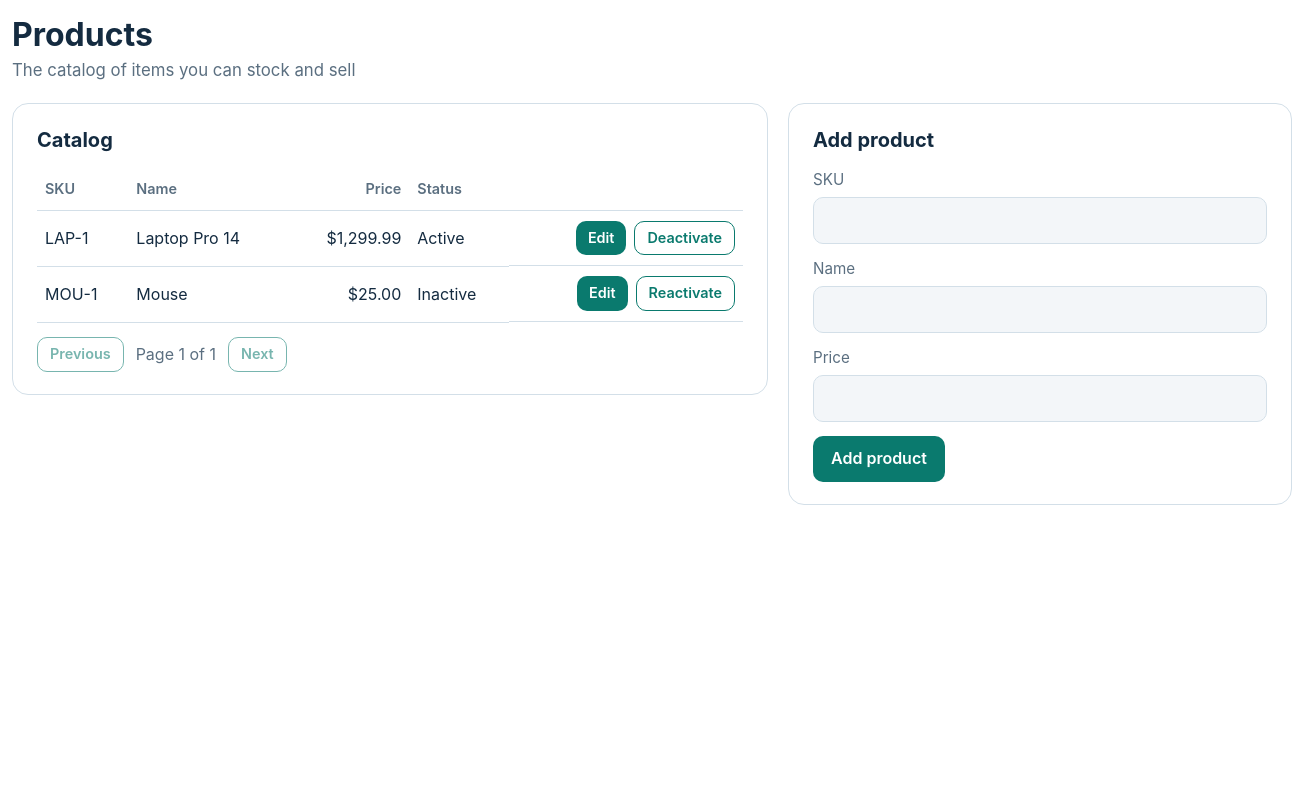
Scenario: ProductsPage create › shows a duplicate-SKU conflict as a message and keeps what was typed
Expected: the text "MOU-1" is shown, left=37, top=266, right=128, bottom=322
Type "LAP-1" into the field labelled "SKU".
click(1040, 220); type("LAP-1")  # box left=813, top=197, right=1267, bottom=244
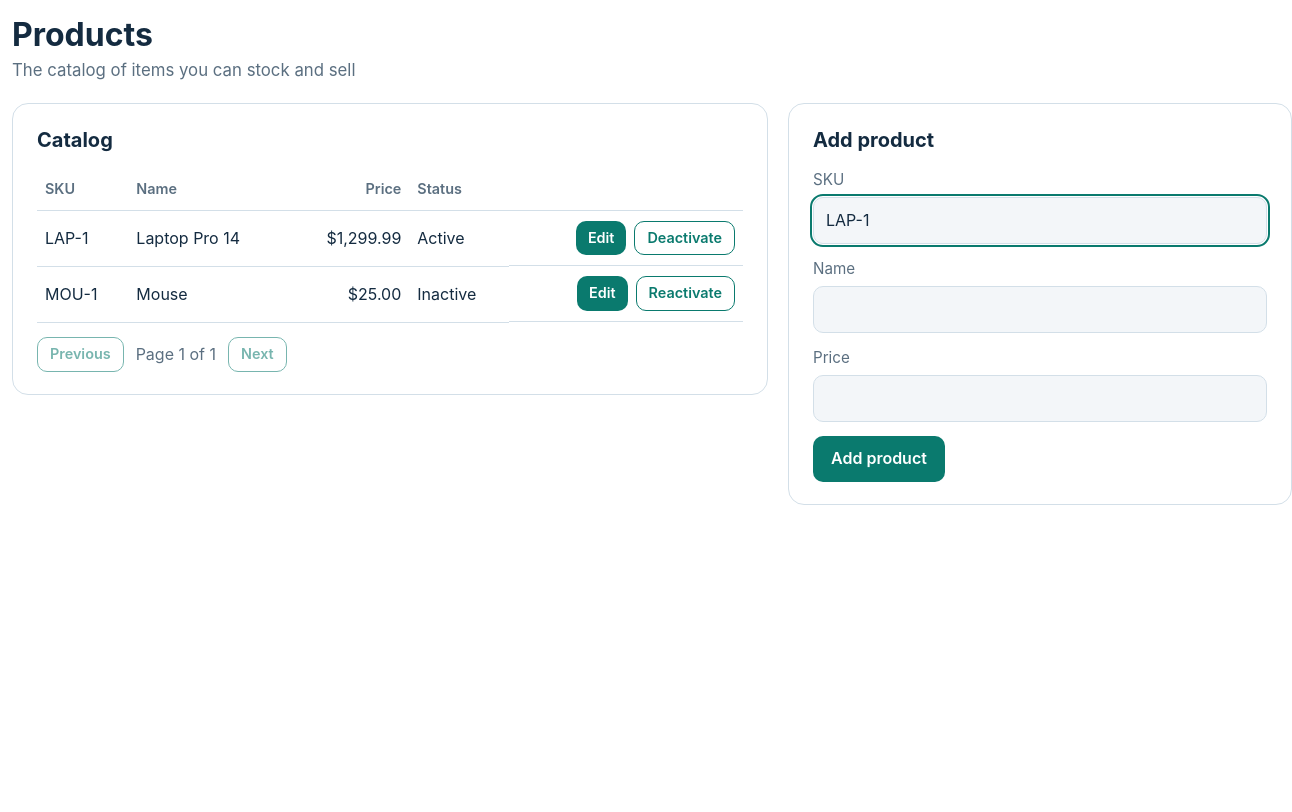
Type "Dup" into the field labelled "Name".
click(1040, 310); type("Dup")  # box left=813, top=286, right=1267, bottom=333
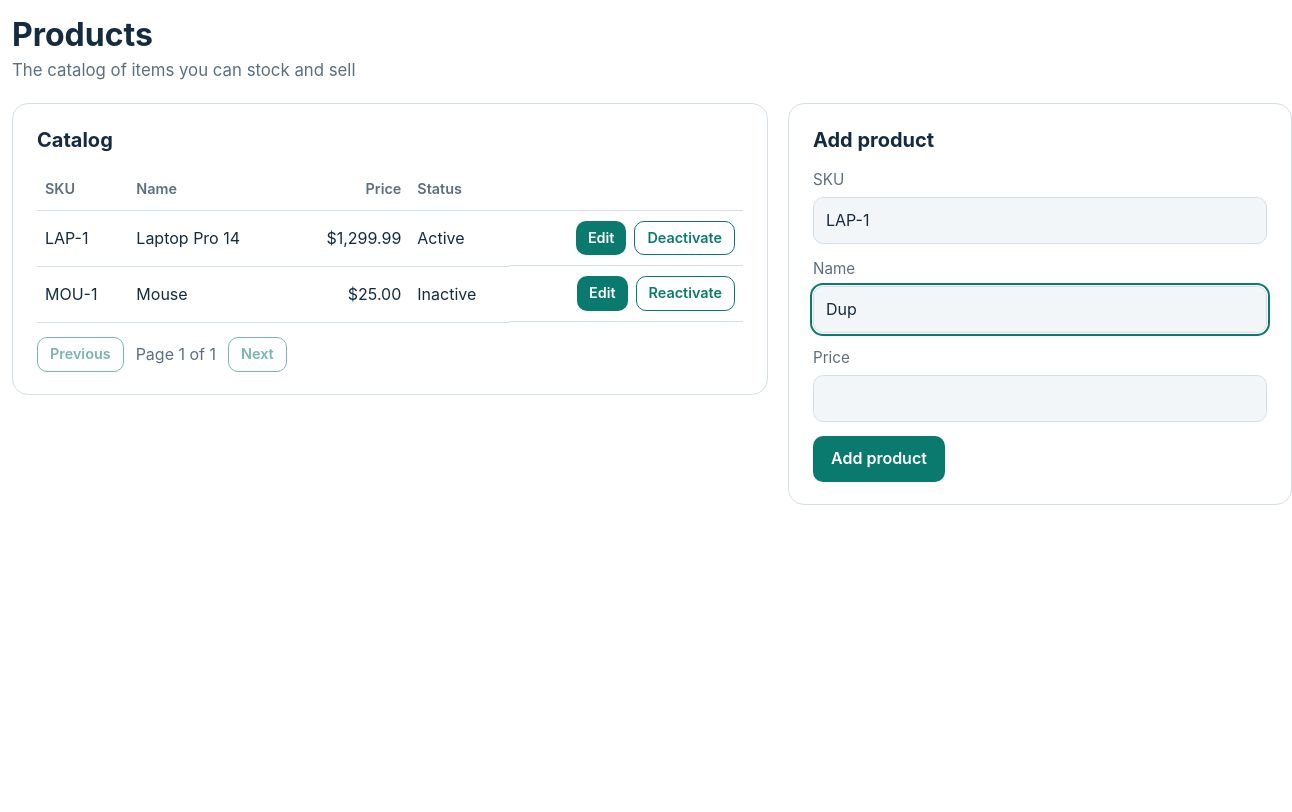
Type "5" into the field labelled "Price".
click(1040, 399); type("5")  # box left=813, top=375, right=1267, bottom=422
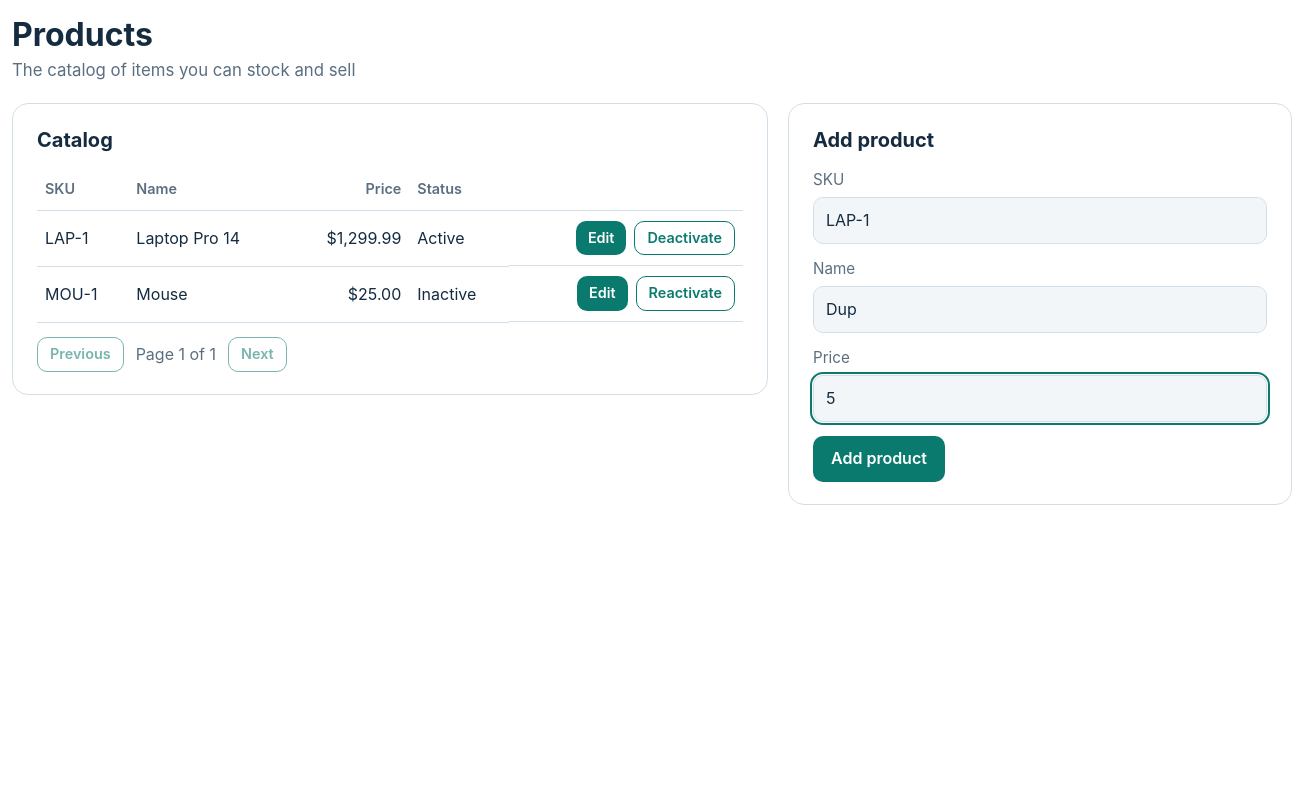
Click the button "Add product".
click(879, 459)  # box left=813, top=436, right=945, bottom=482
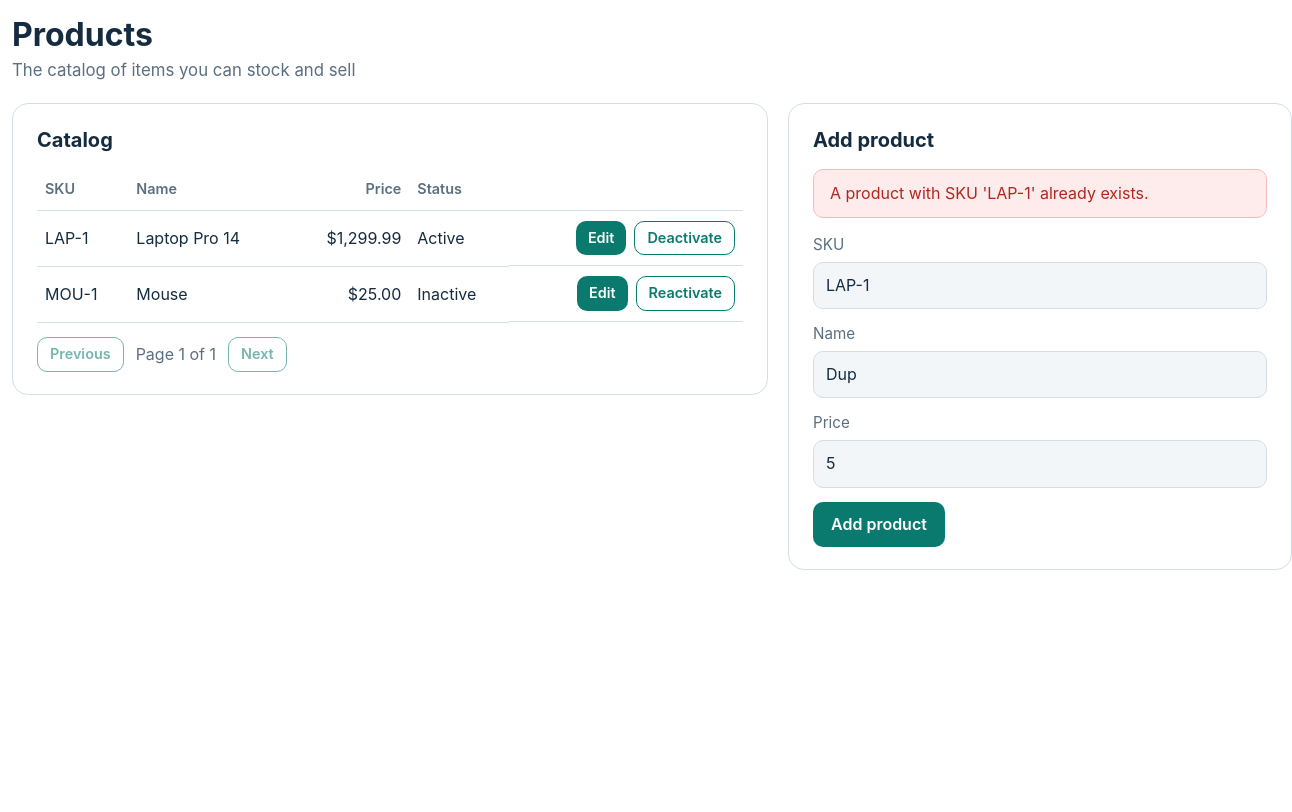
Expected: the message reads "A product with SKU 'LAP-1' already exists.", left=830, top=183, right=1149, bottom=203
